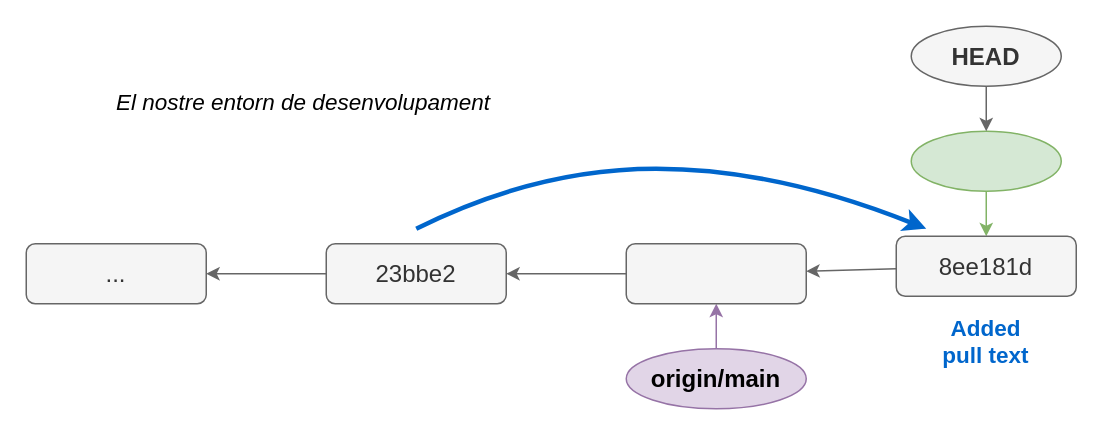
Image size: 1103x435. Some labels were removed from this diagram. The shapes that lost their labels are listed below. From the top down, each one's centre as x and y in pixels, then its label:
At point 985,160: "main".
At point 715,273: "faed5a5".
